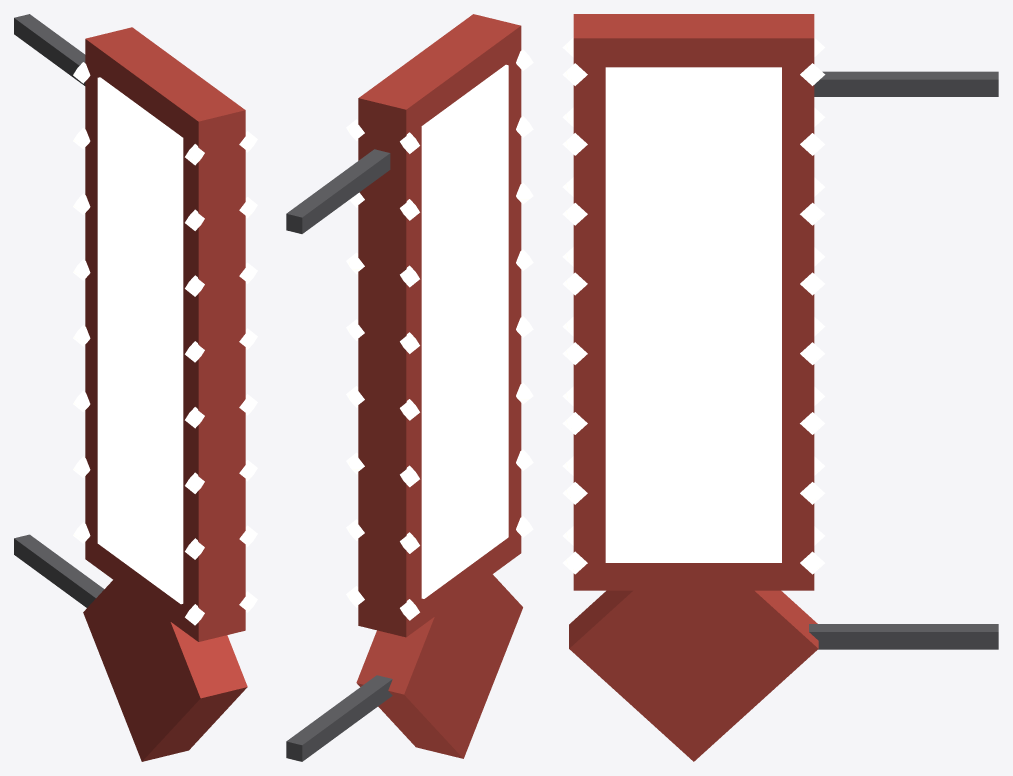
File: ArrowSign.glb
3 views of the same model, side by side, from view 1: azimuth 30°, elevation 25°; view 2: azimuth 150°, elevation 25°; view 3: azimuth 270°, elevation 25° (orthographic). The views are drawn at different scales.
Visible parts, largest first — view 1: ArrowSign_cube.008, ArrowSign_cube.010, ArrowSign_cube.009, ArrowSign_cube.007, ArrowSign_cube.006; view 2: ArrowSign_cube.008, ArrowSign_cube.010, ArrowSign_cube.009, ArrowSign_cube.007, ArrowSign_cube.006; view 3: ArrowSign_cube.011, ArrowSign_cube.008, ArrowSign_cube.009, ArrowSign_cube.007, ArrowSign_cube.006.
Part boxes in pixels (box(x1,y1,x2,y2)): ArrowSign_cube.008: box(85, 27, 245, 641); ArrowSign_cube.010: box(97, 77, 183, 604); ArrowSign_cube.009: box(83, 580, 247, 761); ArrowSign_cube.007: box(14, 534, 104, 607); ArrowSign_cube.006: box(14, 14, 85, 85); ArrowSign_cube.008: box(358, 14, 521, 637); ArrowSign_cube.010: box(421, 64, 508, 598); ArrowSign_cube.009: box(356, 559, 522, 758); ArrowSign_cube.007: box(286, 675, 392, 761); ArrowSign_cube.006: box(286, 149, 390, 233); ArrowSign_cube.011: box(605, 67, 781, 562); ArrowSign_cube.008: box(573, 14, 814, 590); ArrowSign_cube.009: box(569, 563, 818, 761); ArrowSign_cube.007: box(809, 624, 998, 649); ArrowSign_cube.006: box(814, 71, 998, 96).
Bounding box in the file's own units: 0.28 × 2.49 × 1.36.
